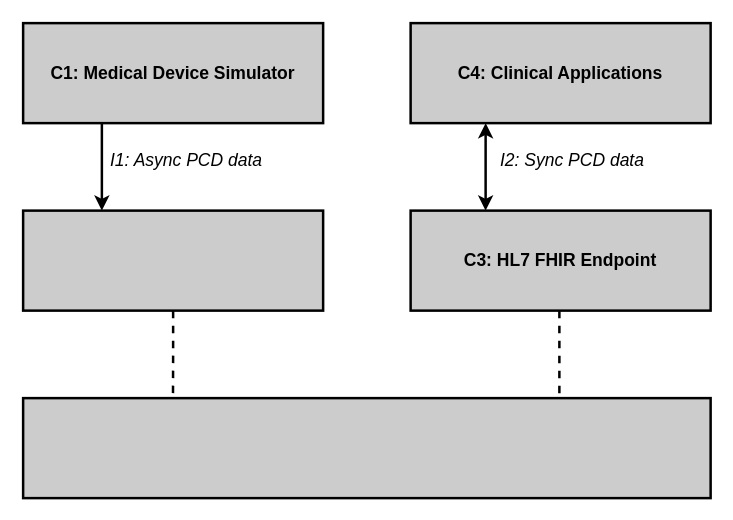
Some shapes in this 733 by 520 pixel diagram are drawn without their labels. Here are the shapes that lost their labels. From the top down, the centre of each, then its label:
At (x=172, y=260): "C2: HL7v2 Endpoint".
At (x=366, y=447): "Storage SQL Database".
